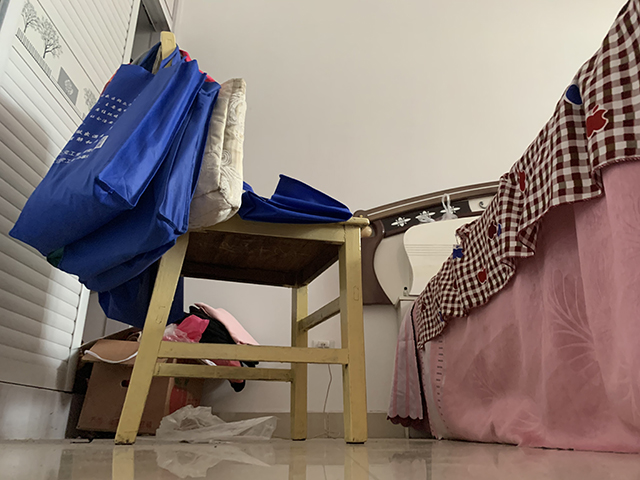bed: (351, 1, 640, 456)
cabinet: (1, 1, 180, 442)
stool: (113, 28, 374, 445)
wire: (312, 340, 341, 440)
